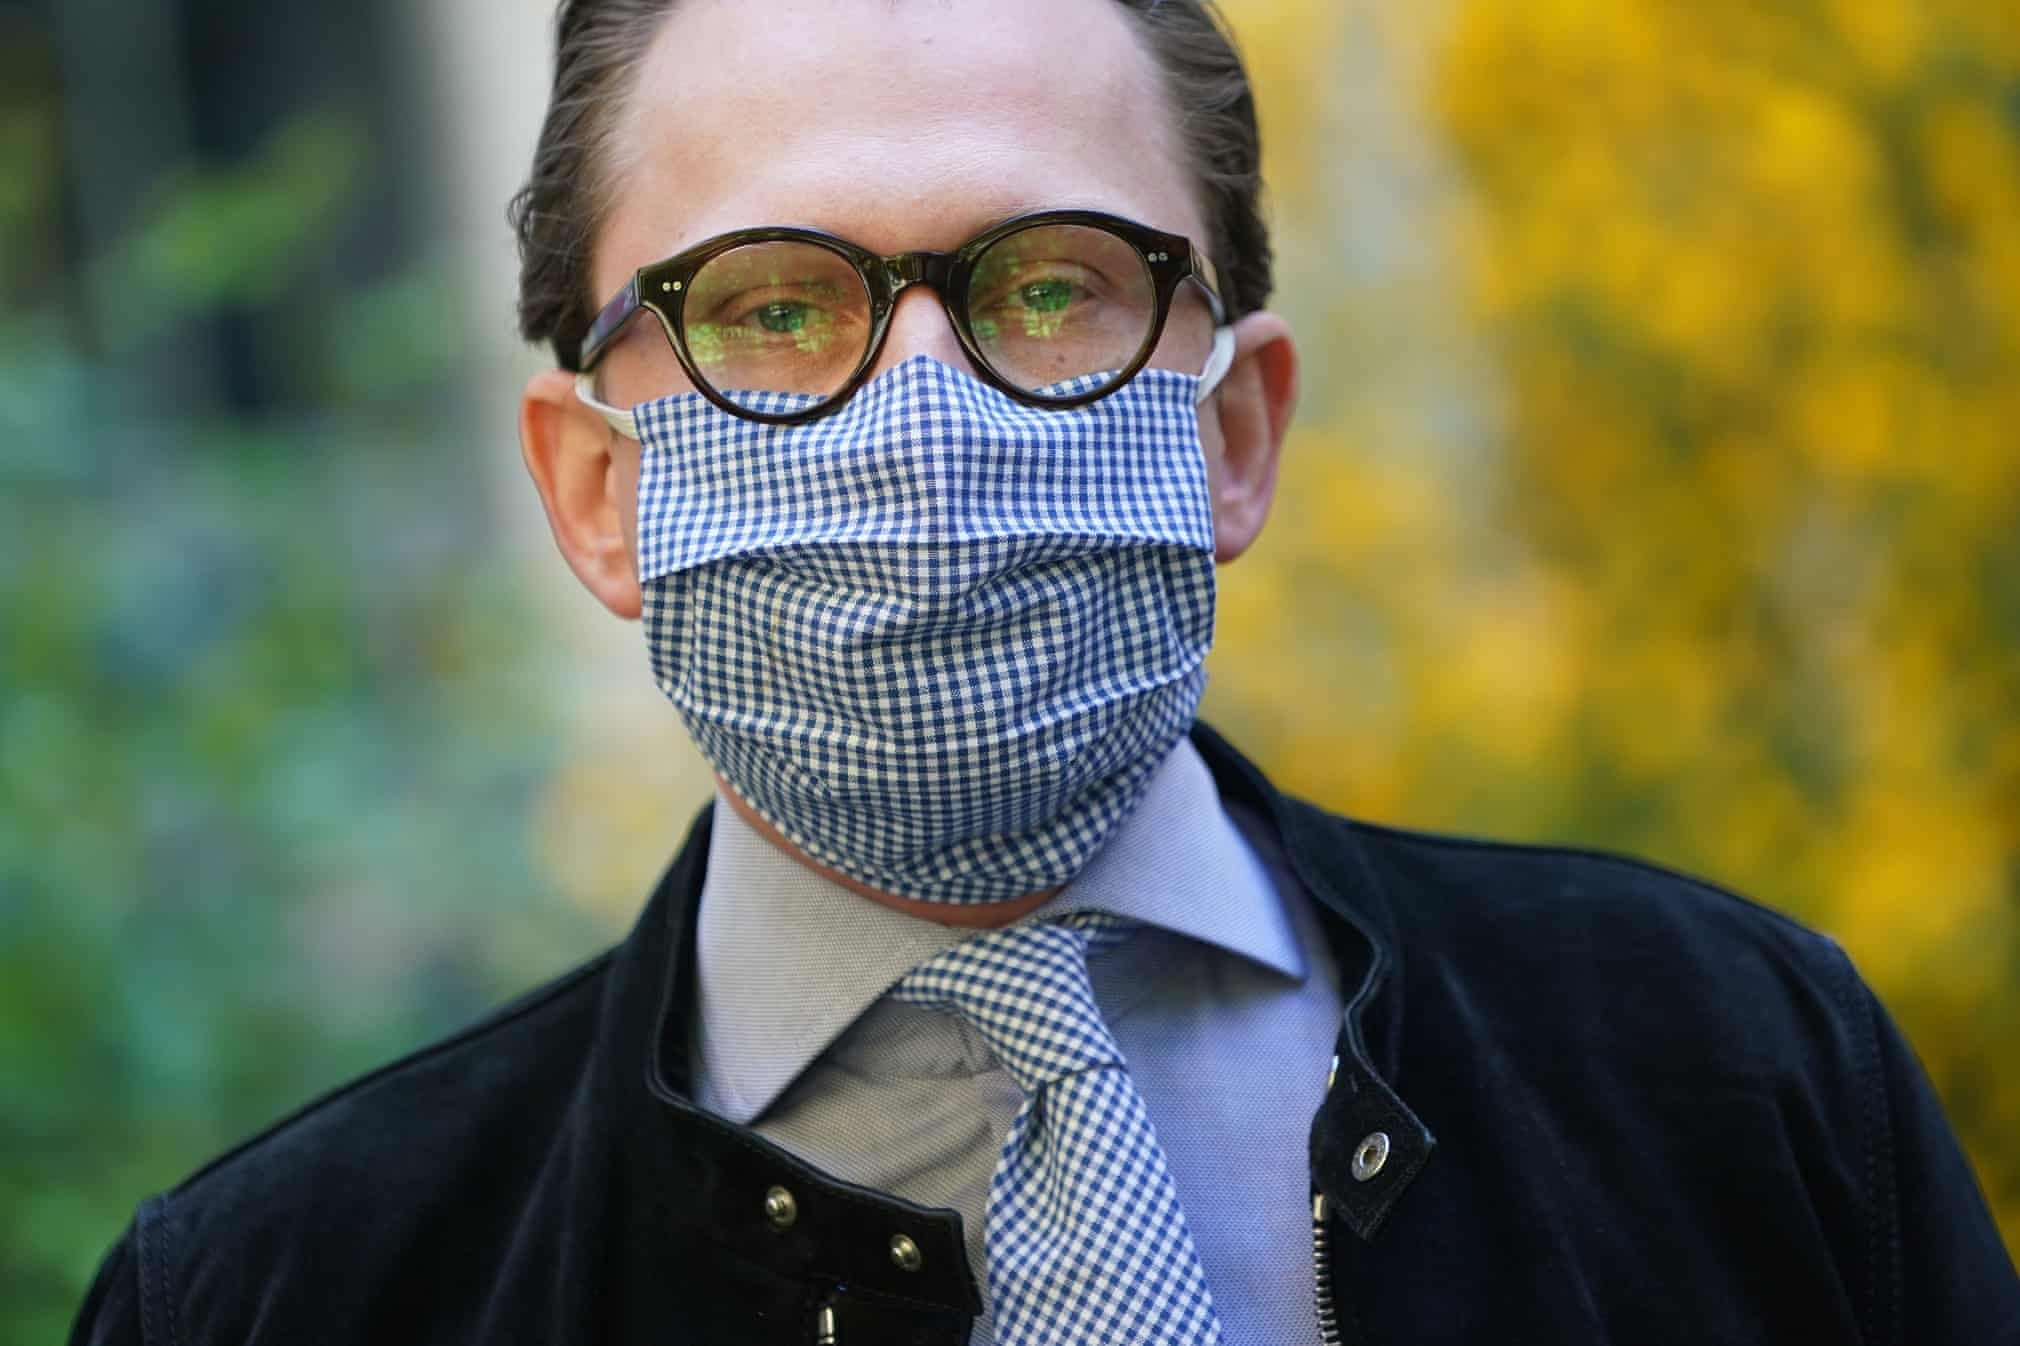face_with_mask: (527, 2, 1303, 911)
